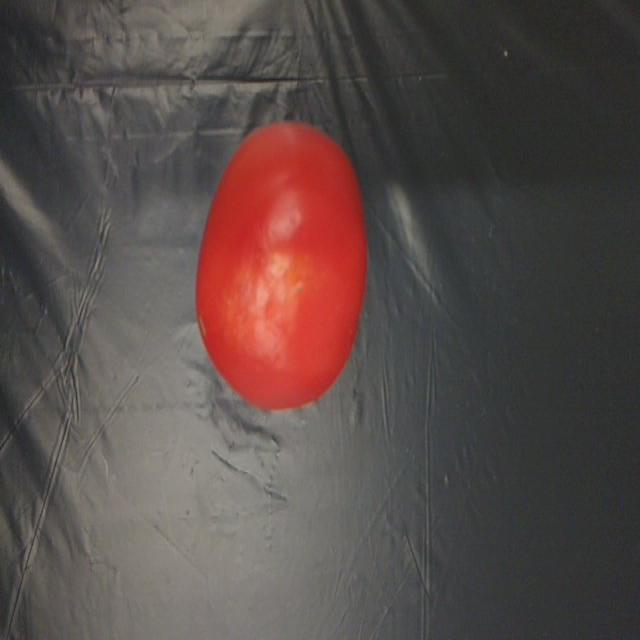kirmizi: (181, 114, 383, 421)
